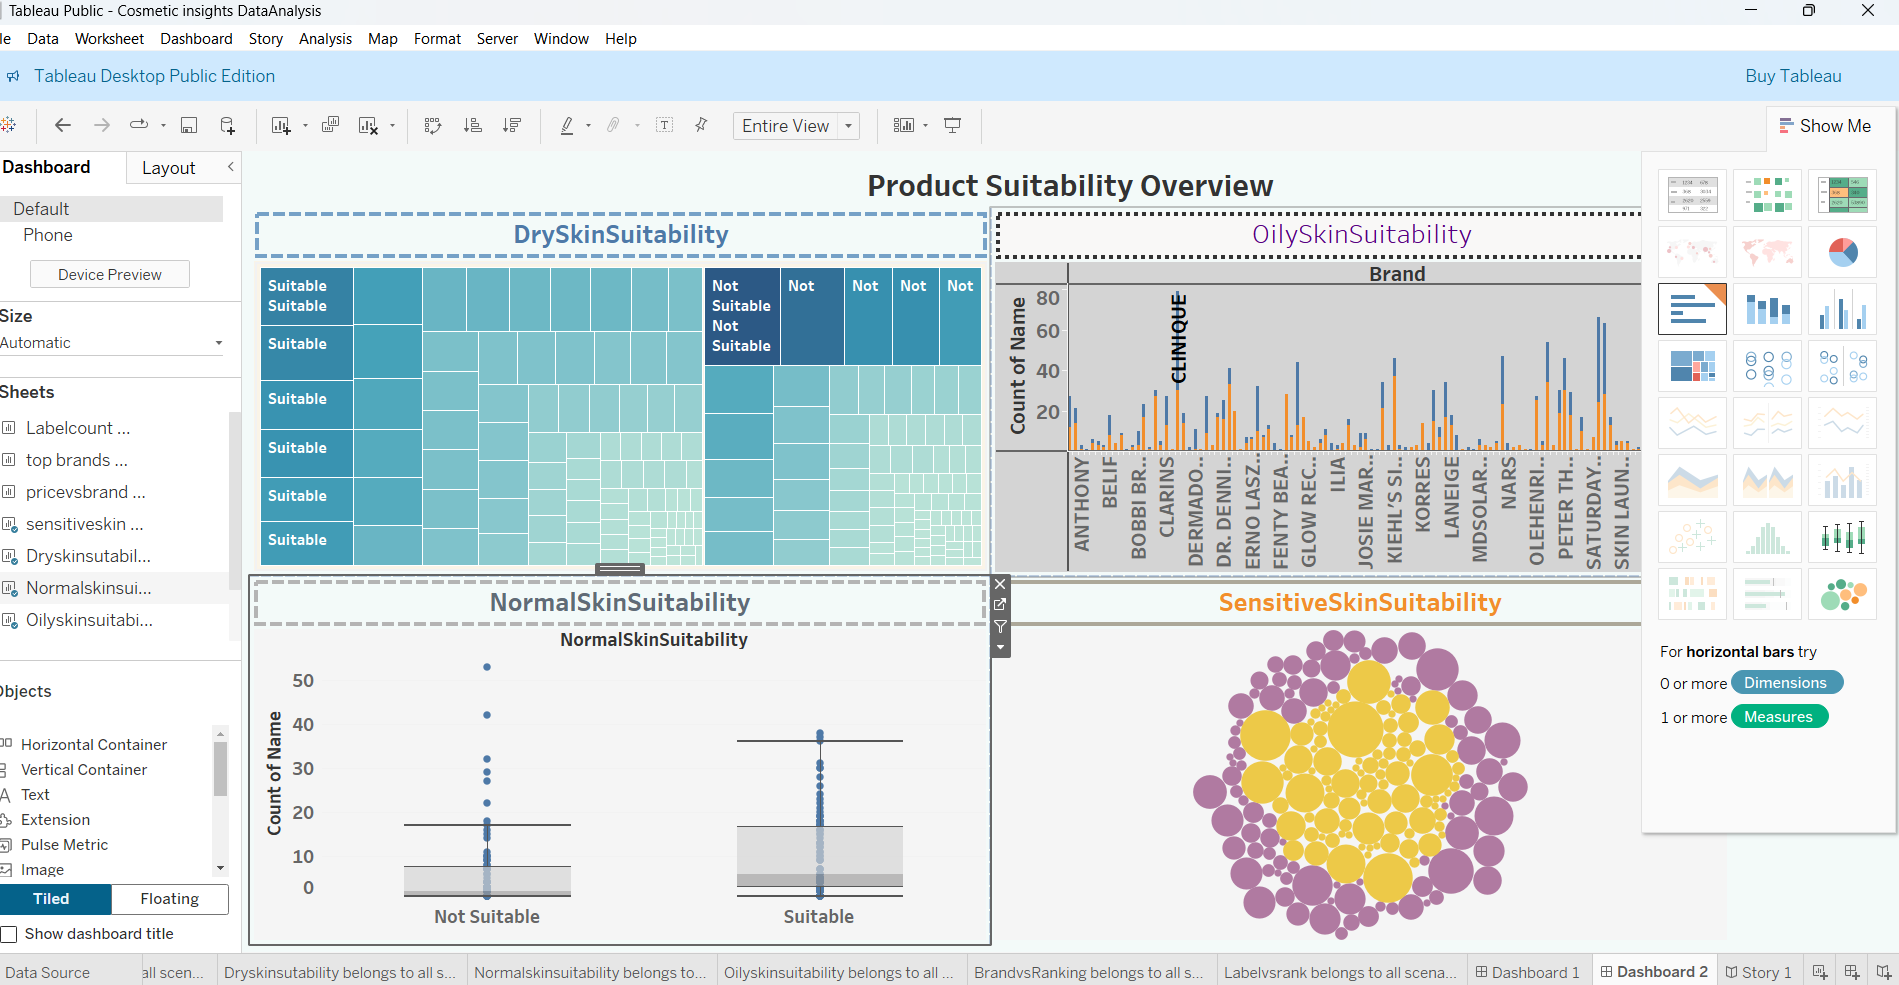

The dashboard page shown, as its layout file describes it:
{"tool":"tableau","page":{"name":"Dashboard 2","canvas":[1000,1000],"units":"permille","ordinal":1},"visuals":[{"type":"title","box":[4.8,10,990.3,61.2]},{"type":"worksheet","title":"Dryskinsutability belongs to all scenarios","mark":"Automatic","box":[4.8,71.2,446.9,459.4]},{"type":"worksheet","title":"Oilyskinsuitability belongs to all scenarios","mark":"Circle","rows":["Name"],"cols":["Calculation_233342779227639814"],"box":[451.7,71.2,446.9,459.4]},{"type":"legend","title":"sensitiveskin belongs to all scenarios","param":"[federated.186qhqw1r5hyl615t013z1gjae3n].[none:Calculation_233342779223543808:nk","box":[898.6,71.2,96.6,112.4]},{"type":"legend","title":"Dryskinsutability belongs to all scenarios","param":"[federated.186qhqw1r5hyl615t013z1gjae3n].[cnt:Name:qk]","box":[898.6,183.5,96.6,91.1]},{"type":"legend","title":"Oilyskinsuitability belongs to all scenarios","param":"[federated.186qhqw1r5hyl615t013z1gjae3n].[none:Calculation_233342779227639814:nk","box":[898.6,274.7,96.6,30]},{"type":"worksheet","title":"Normalskinsuitability belongs to scenario 1 and 3","mark":"Automatic","rows":["Name"],"cols":["Brand"],"box":[4.8,530.6,446.9,459.4]},{"type":"worksheet","title":"sensitiveskin belongs to all scenarios","mark":"Circle","box":[451.7,530.6,446.9,459.4]}]}

Visuals, with their boxes on the dashboard's canvas, which has no fixed pixel size, in thousandths of its width and height (x1, y1, x2, y2). These are canvas units, not pixel positions in the 1899x985 screenshot, which may show the page scaled, cropped or inside an application window:
title: 5:10:995:71
"Dryskinsutability belongs to all scenarios" worksheet: 5:71:452:531
"Oilyskinsuitability belongs to all scenarios" worksheet (Circle marks): 452:71:899:531
"sensitiveskin belongs to all scenarios" legend: 899:71:995:184
"Dryskinsutability belongs to all scenarios" legend: 899:184:995:275
"Oilyskinsuitability belongs to all scenarios" legend: 899:275:995:305
"Normalskinsuitability belongs to scenario 1 and 3" worksheet: 5:531:452:990
"sensitiveskin belongs to all scenarios" worksheet (Circle marks): 452:531:899:990
